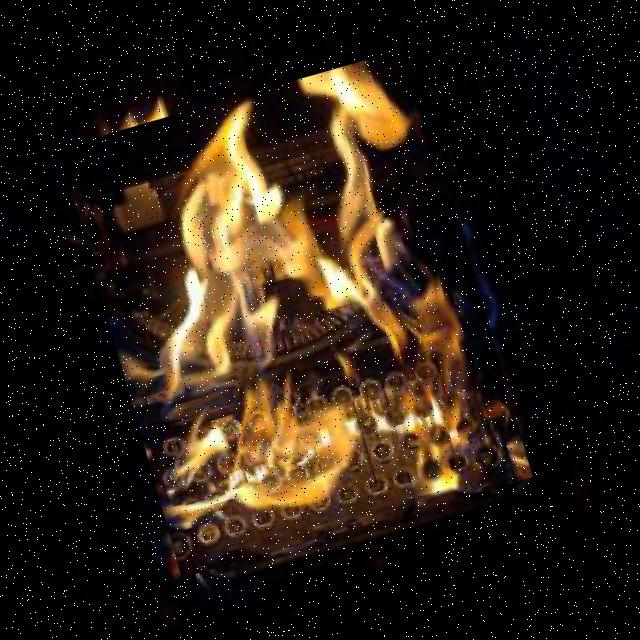fire: (59, 47, 532, 577)
